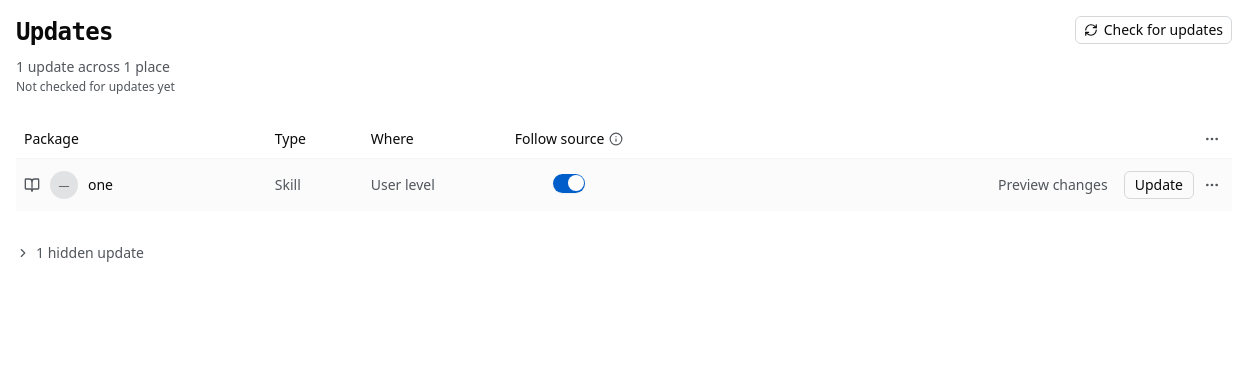
Test: the table's own menu › shows the Version column from the `…` menu, for every table on the page
The width and height of the screenshot is (1249, 369).
Click the button "1 hidden update". click: (80, 253)
box: [16,243,144,263]
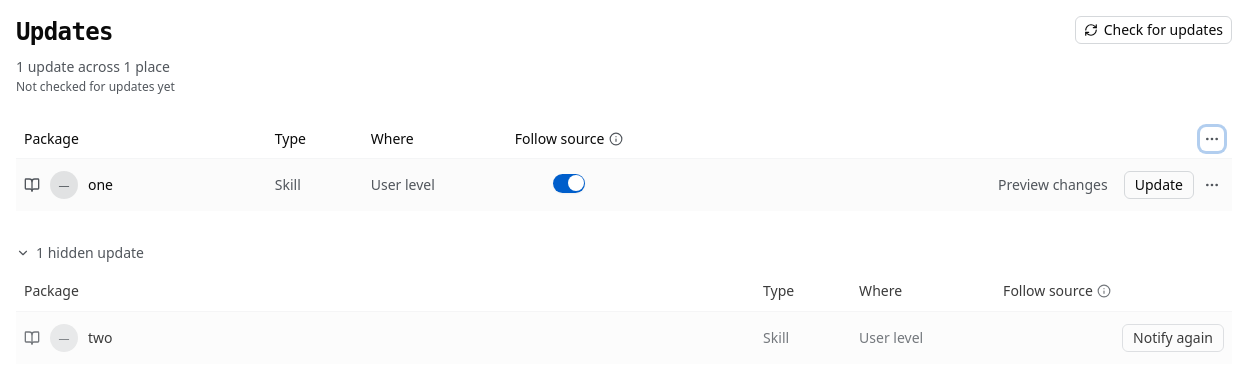
Expected: the text "Version" is not shown
Expected: the number of column headings is 10
Press Enter
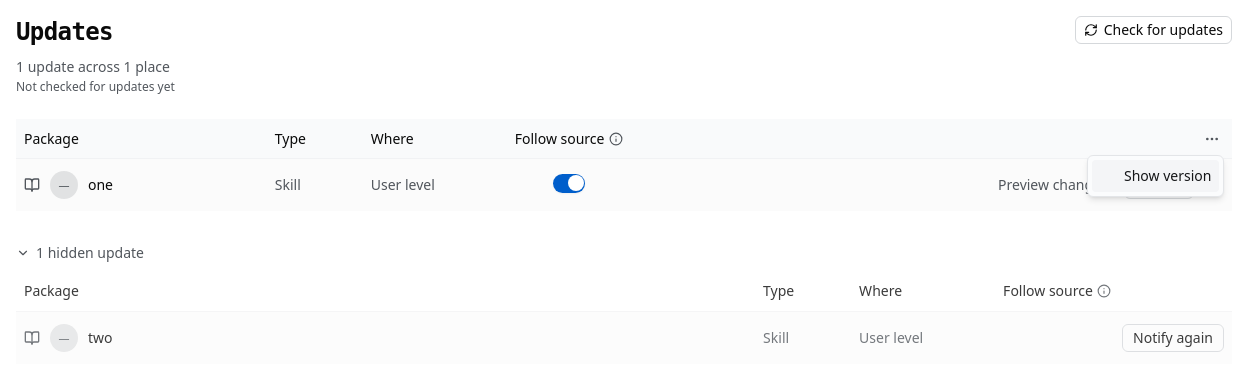
Click the menu item "Show version". click: (1156, 176)
box: [1092,160,1219,192]
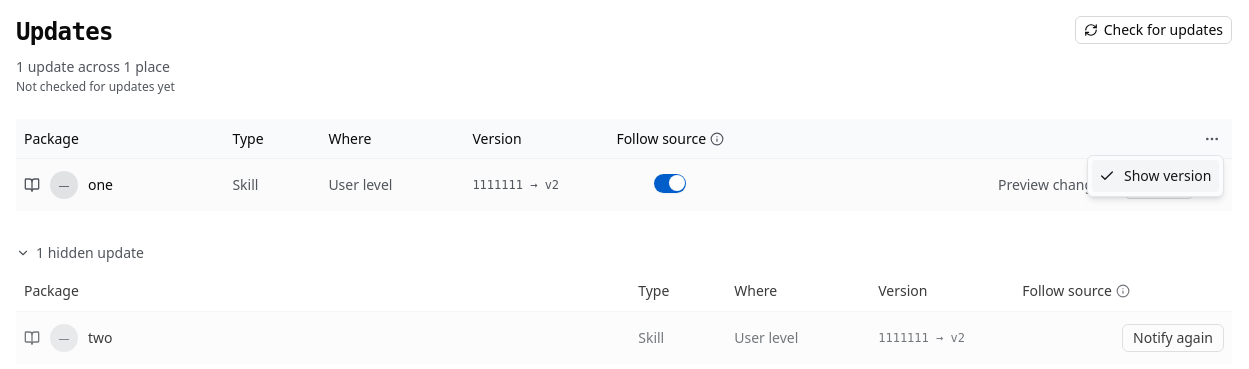
Expected: the number of column headings is 12
Expected: the text "1111111 → v2" is shown, [464,159,608,211]
